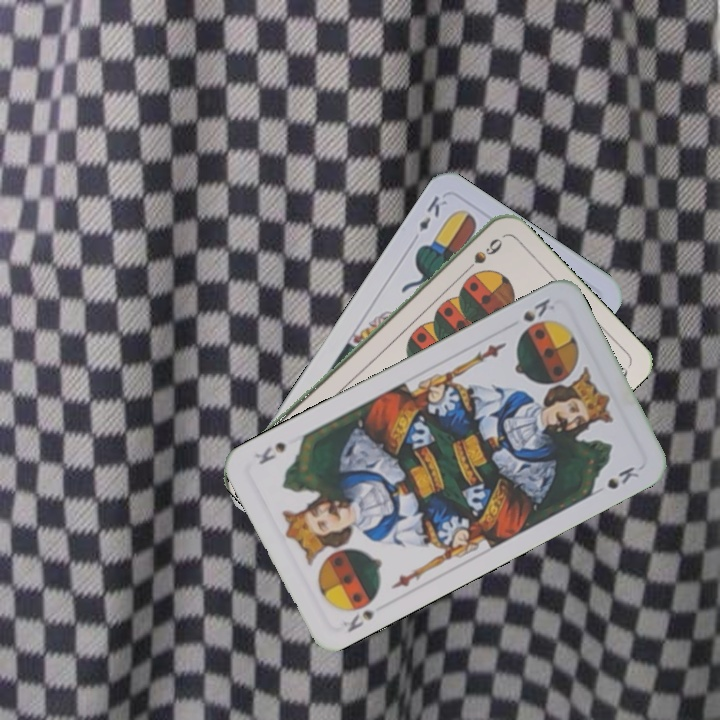EK: (415, 191, 450, 234)
S9: (458, 234, 505, 278)
SK: (518, 294, 558, 325), (339, 605, 377, 635)
